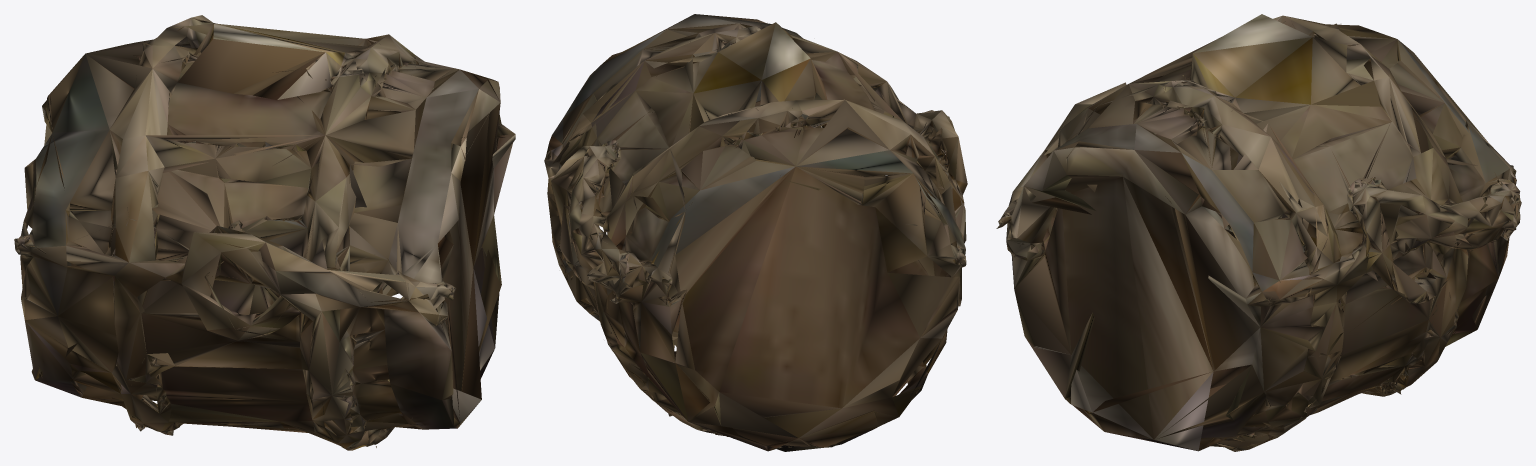
File: prop_oil_barrel_01.glb
The picture shows the model from 3 angles, left to right: view 1: azimuth 30°, elevation 25°; view 2: azimuth 150°, elevation 25°; view 3: azimuth 270°, elevation 25°; orthographic projection. The views are drawn at different scales.
Parts seen in each view (by area): view 1: geometry_0; view 2: geometry_0; view 3: geometry_0.
Boxes of the visible parts, box(x1,y1,x2,y2) form: geometry_0: box(14, 15, 515, 450); geometry_0: box(544, 14, 967, 451); geometry_0: box(996, 14, 1521, 451).
Bounding box in the file's own units: 0.9854 × 0.7715 × 0.9957.
1 material, 1 textured.
